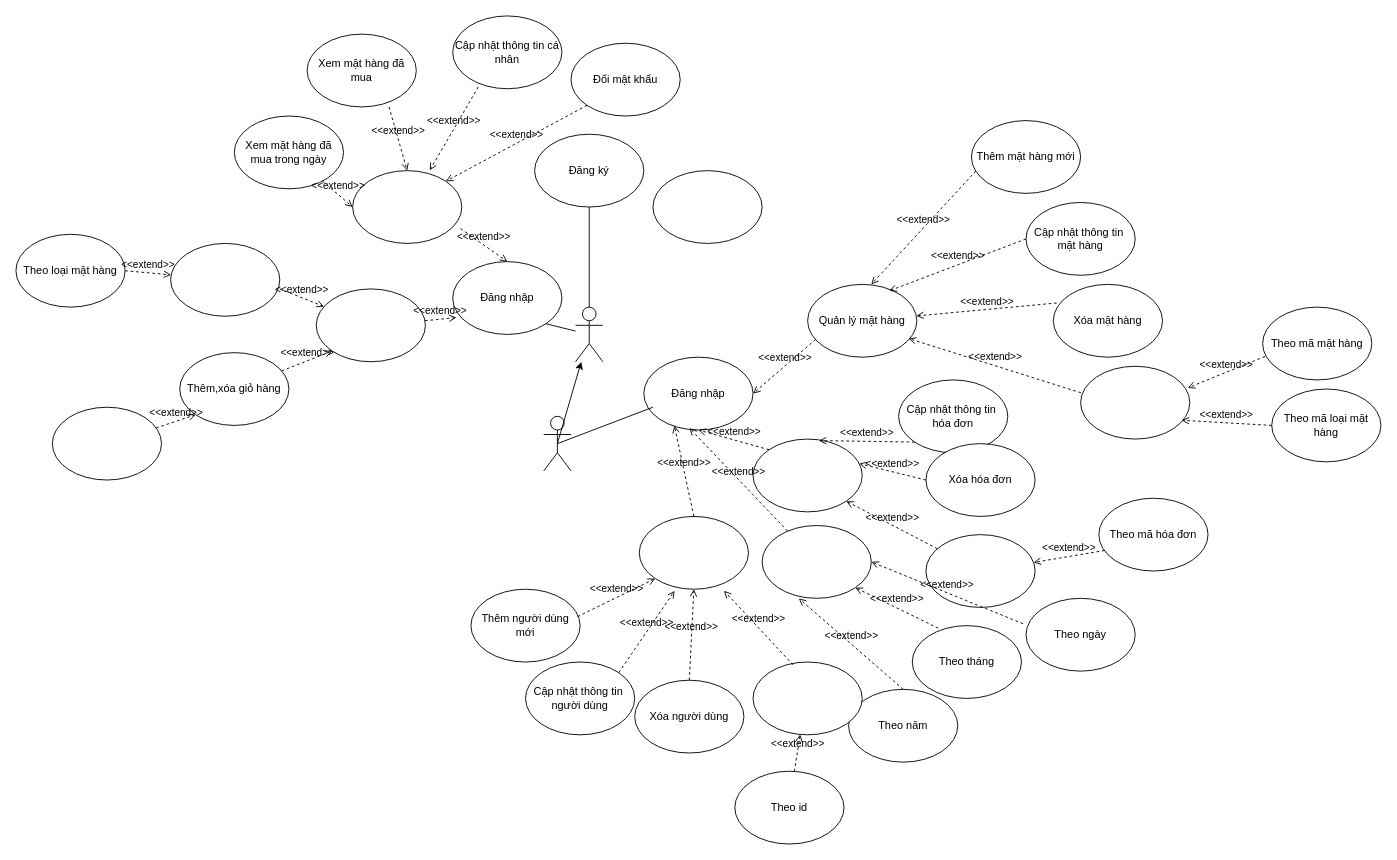
This 1397x860 diagram has some shape labels left out. The centre of each missing label's shape, as x and y in pixels:
"Admin" belongs at point (557, 443).
"Mua hàng" belongs at point (106, 443).
"Quản lý hóa đơn" belongs at point (807, 475).
"Quản lý tài khoản" belongs at point (693, 552).
"Thống kê doanh số" belongs at point (816, 561).
"Tìm hàng hóa" belongs at point (225, 279).
"Tìm kiếm hóa đơn" belongs at point (980, 570).
"Tìm kiếm mặt hàng" belongs at point (1135, 402).
"Tìm kiếm người dùng" belongs at point (807, 698).
"User" belongs at point (589, 334).
"Xem mặt hàng" belongs at point (370, 325).
"Xem thông tin cá nhân" belongs at point (407, 206).
"Đăng xuất" belongs at point (707, 206).
